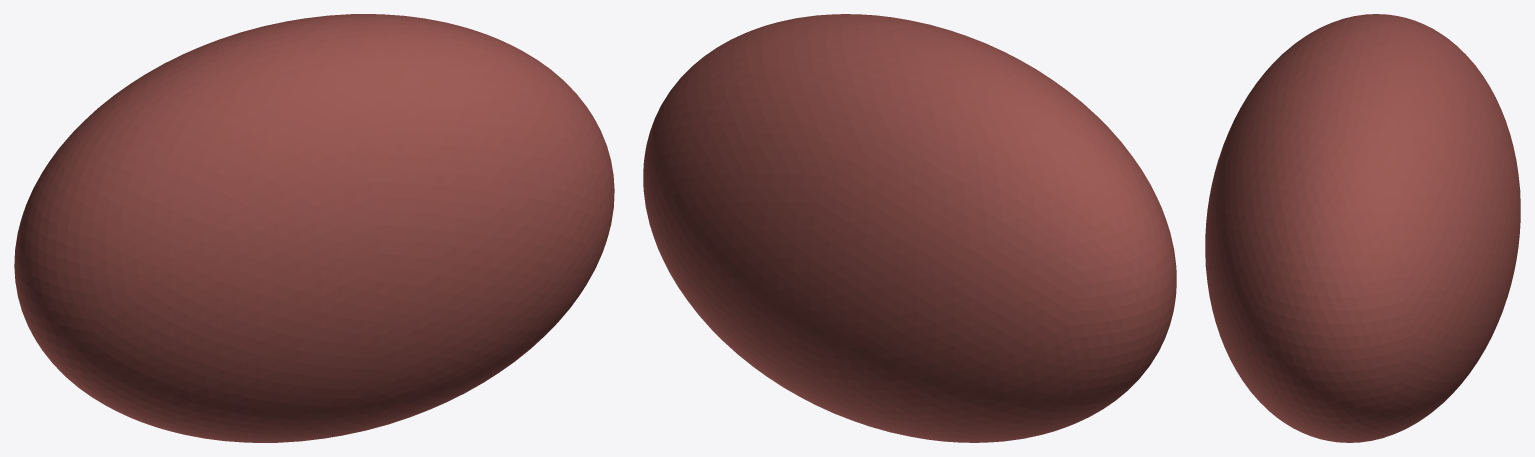
File: dranmar_oncology_liver_mapped.glb
The picture shows the model from 3 angles, left to right: view 1: azimuth 30°, elevation 25°; view 2: azimuth 150°, elevation 25°; view 3: azimuth 270°, elevation 25°; orthographic projection. The views are drawn at different scales.
Parts seen in each view (by area): view 1: liver; view 2: liver; view 3: liver.
Boxes of the visible parts, <box> form: liver: <box>14,14,614,442</box>; liver: <box>643,14,1176,442</box>; liver: <box>1205,14,1520,442</box>.
Size of the model in its own units: 0.2388 by 0.164 by 0.1321.
